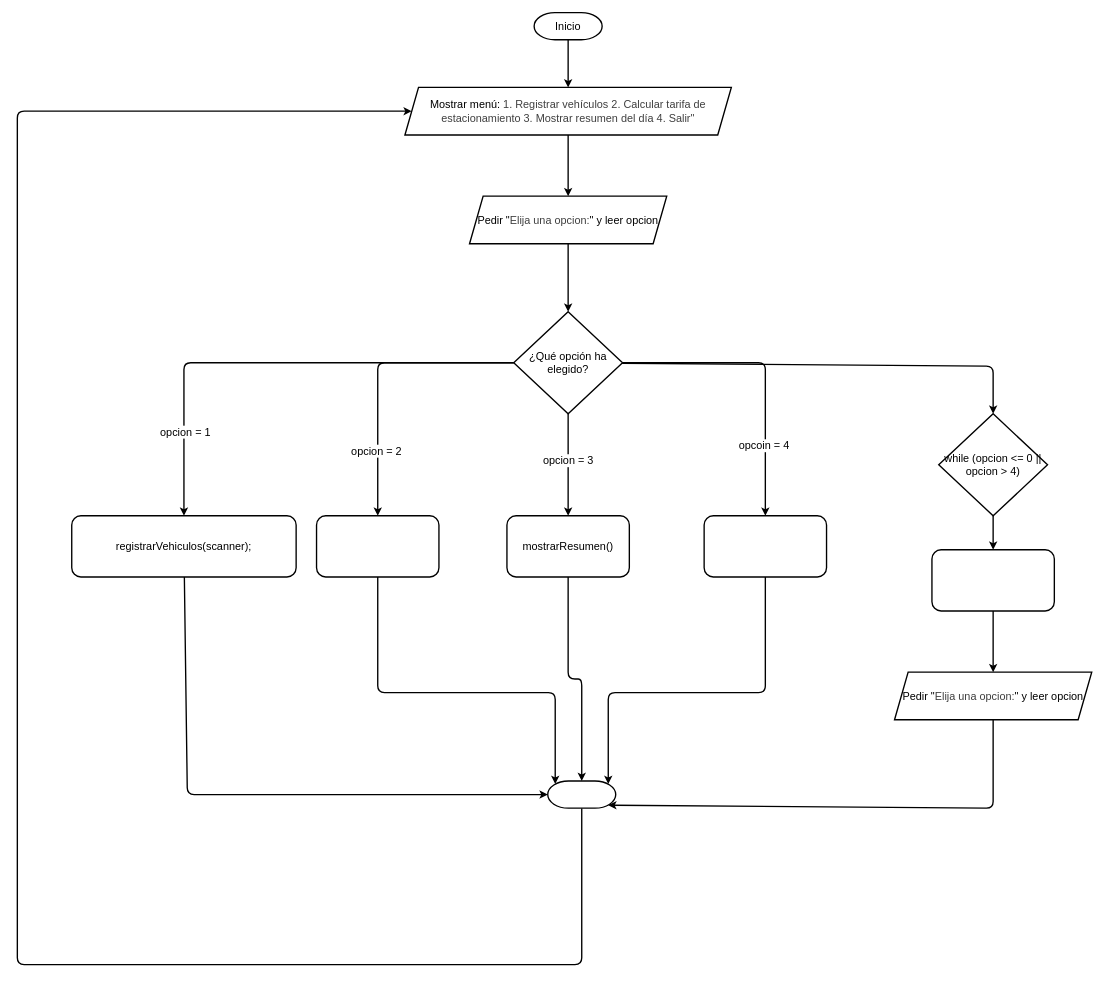
Image size: 1104x982. Some labels were removed from this diagram. The shapes that lost their labels are listed below. From the top down, each one's box as (x1, y1, x2, y2) in pixels, then its label:
(316, 515, 439, 577): calcularTarifa(scanner);
(703, 515, 827, 577): while (opcion != 4) scanner.close()
(931, 549, 1055, 611): Mostrar "Opcion no valida"
(547, 780, 616, 809): Fin
